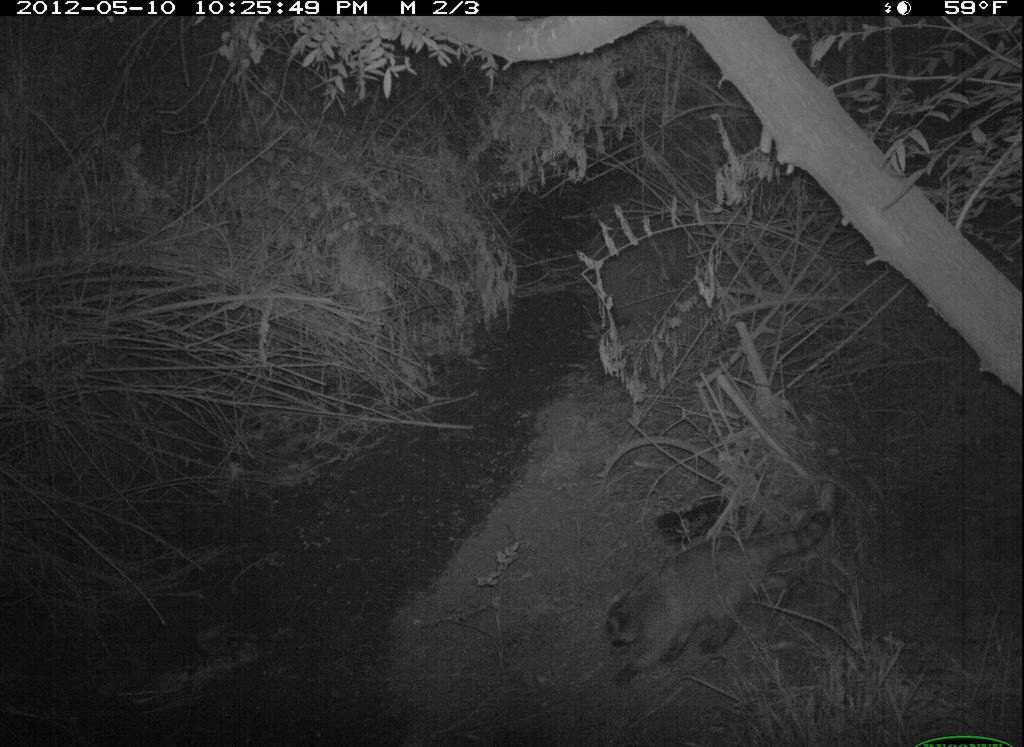raccoon: (591, 488, 868, 694)
